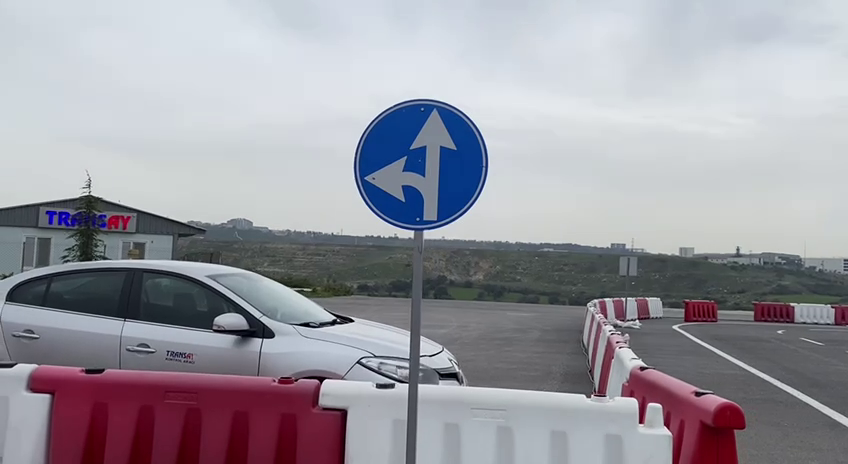forwardAndLeft: (349, 93, 494, 235)
